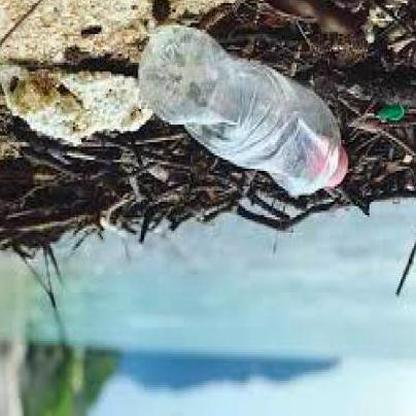plastic bottle: (138, 26, 347, 193)
